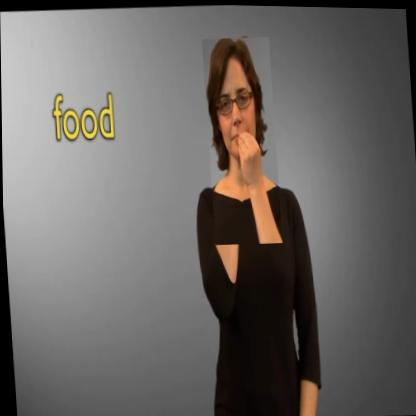Food: (201, 34, 281, 244)
